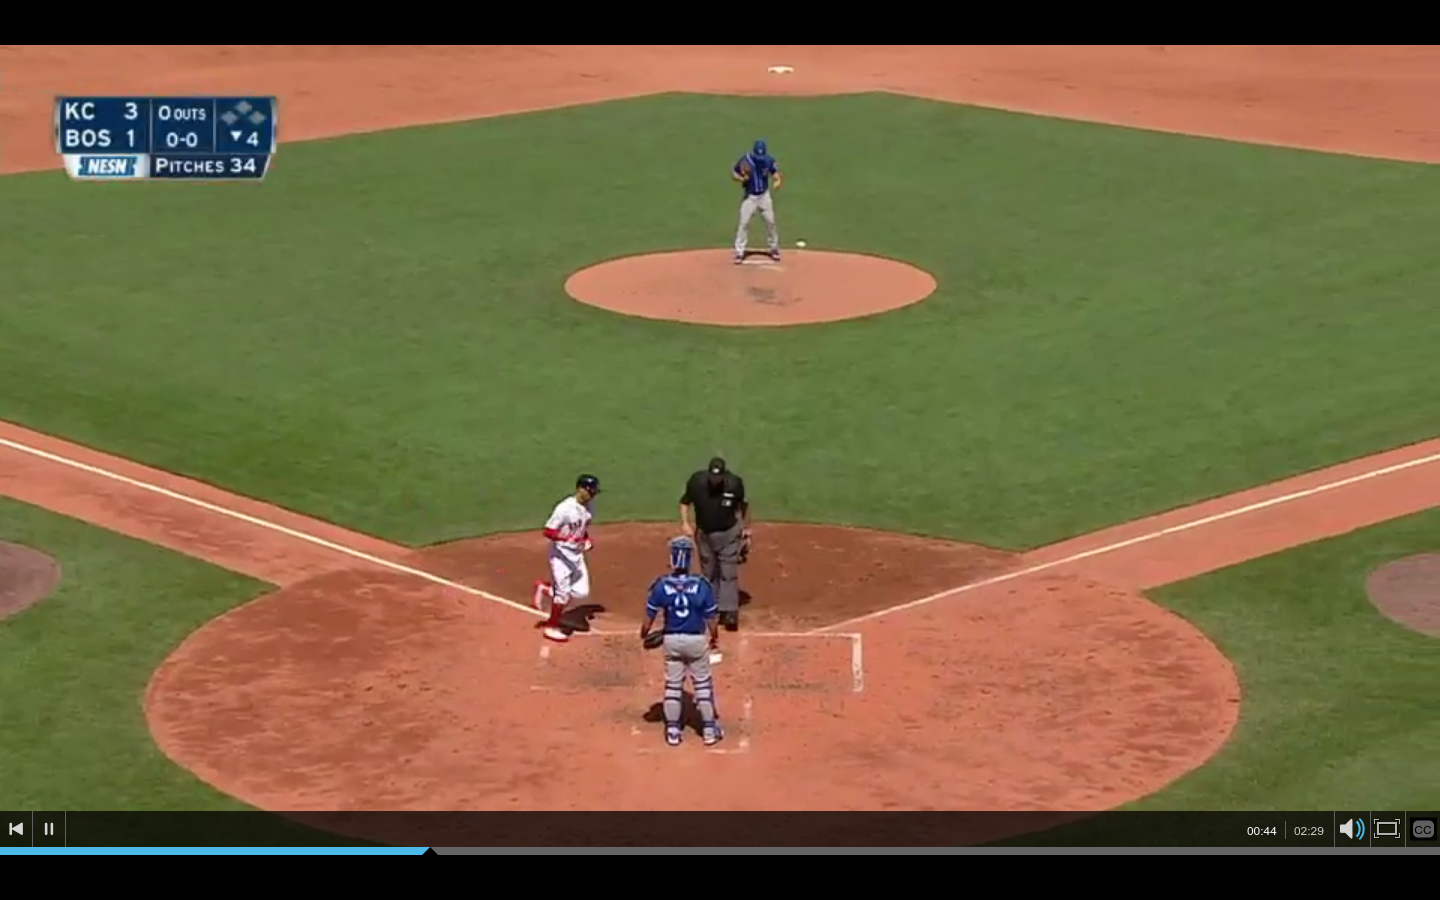baseball player: (636, 539, 732, 749), (524, 469, 607, 649), (722, 136, 788, 268)
referee: (679, 454, 755, 631)
